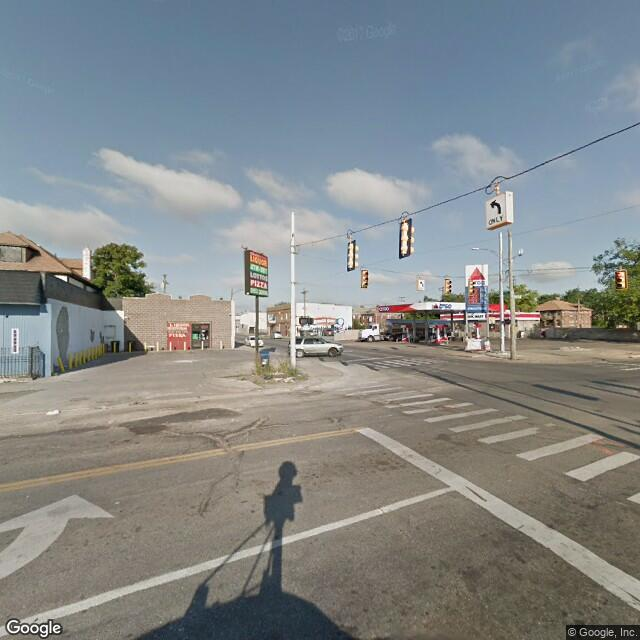litter: (274, 375, 295, 383), (45, 409, 59, 416)
